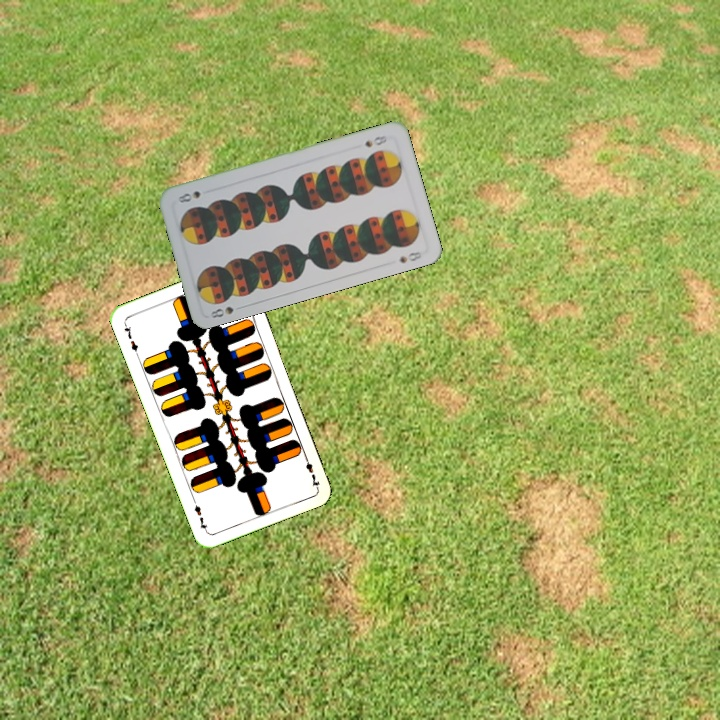E7: (300, 451, 322, 490), (120, 319, 141, 358)
S8: (206, 302, 236, 321), (361, 131, 389, 150)
